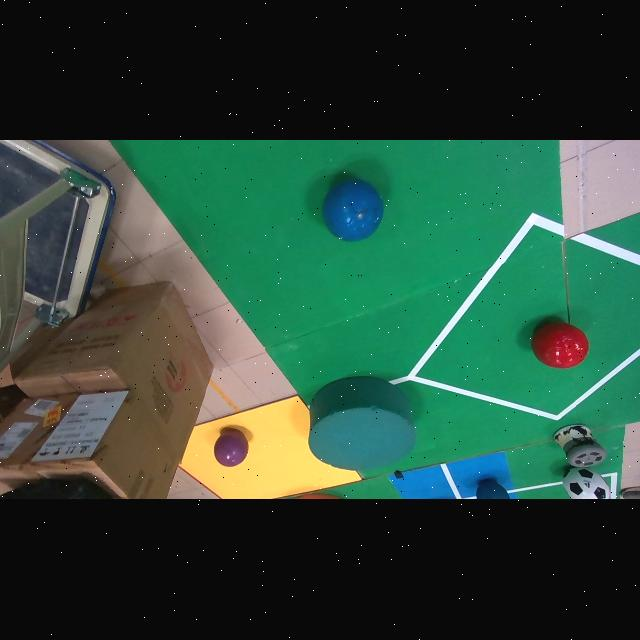B: (322, 180, 383, 242), (477, 481, 510, 500)
P: (214, 429, 248, 467)
R: (532, 323, 589, 368)
